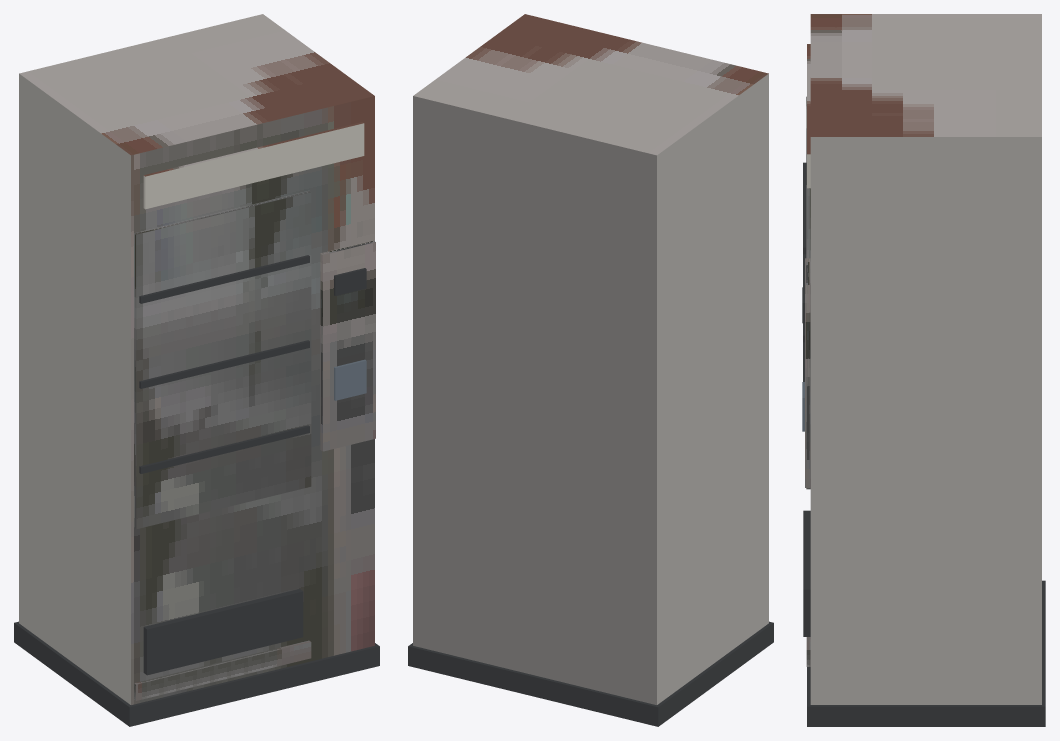
The model's file is Building_AncientVendingMachine.glb.
3 renders of one model, left to right at view 1: azimuth 30°, elevation 25°; view 2: azimuth 150°, elevation 25°; view 3: azimuth 270°, elevation 25°, orthographic. The views are drawn at different scales.
Visible parts, largest first — view 1: AncientVendingMachine; view 2: AncientVendingMachine; view 3: AncientVendingMachine.
Boxes of the visible parts, box(x1,y1,x2,y2) form: AncientVendingMachine: box(14, 14, 379, 726); AncientVendingMachine: box(408, 14, 773, 726); AncientVendingMachine: box(802, 14, 1045, 726).
Bounding box in the file's own units: 0.8 × 1.74 × 0.653.
Materials: 1 (1 with a texture image).
